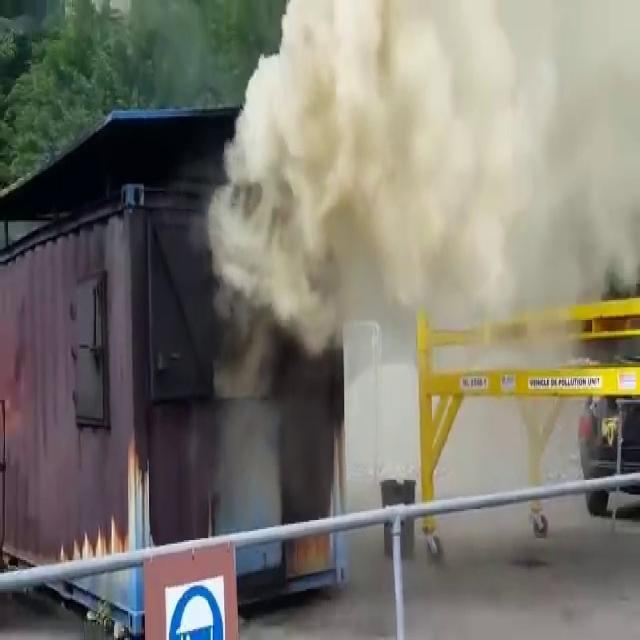Smoke: (252, 0, 640, 331)
